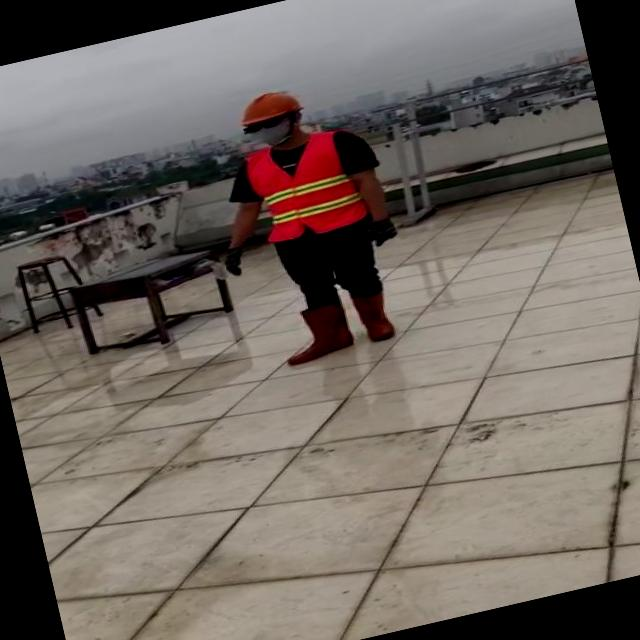boots: (276, 297, 357, 367), (352, 286, 401, 346)
gloves: (212, 234, 254, 282), (370, 204, 406, 248)
helmet: (230, 84, 307, 129)
vest: (238, 124, 368, 245)
